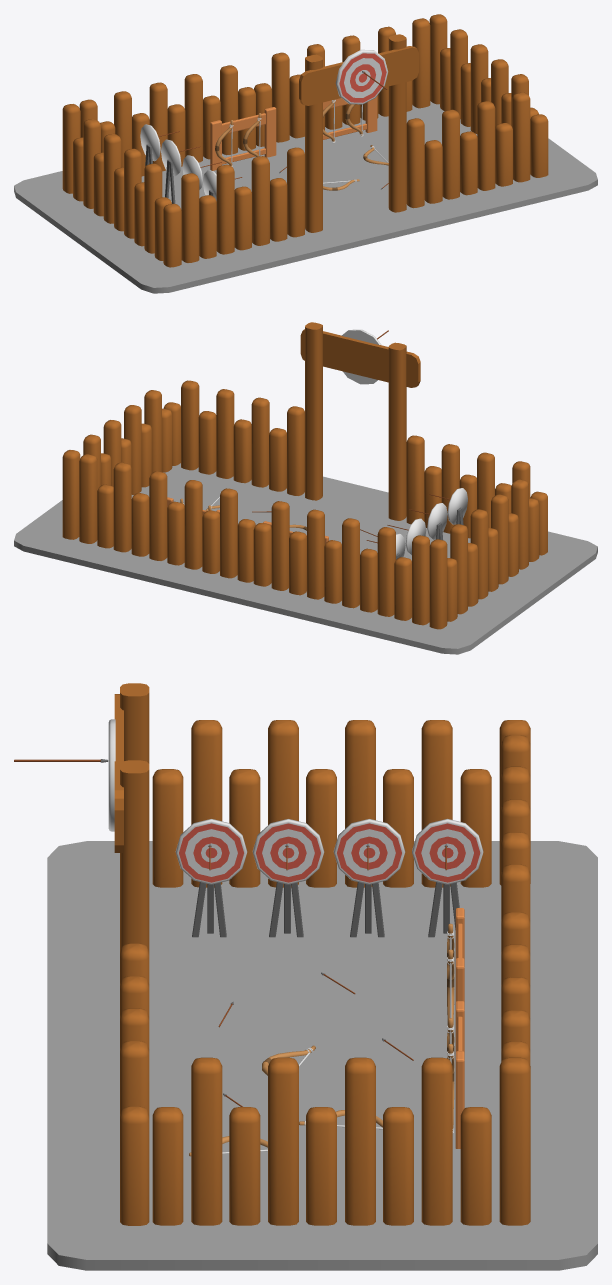
Rendered from Archery camp.fbx.
3 renders of one model, top to bottom at view 1: azimuth 30°, elevation 25°; view 2: azimuth 150°, elevation 25°; view 3: azimuth 270°, elevation 25°, orthographic. The views are drawn at different scales.
Visible parts, largest first — view 1: Cube.175, Cube.176, Cube.173, Cube.177, Cube.174, Cube.172; view 2: Cube.175, Cube.172, Cube; view 3: Cube.175, Cube.172, Cube.173, Cube, Cube.174, Cube.177, Cube.176.
Part boxes in pixels (bbox=[...]): Cube.175: bbox=[14, 14, 597, 293]; Cube.176: bbox=[210, 107, 276, 170]; Cube.173: bbox=[161, 139, 200, 203]; Cube.177: bbox=[323, 96, 377, 139]; Cube.174: bbox=[140, 124, 179, 166]; Cube.172: bbox=[182, 155, 388, 189]; Cube.175: bbox=[14, 322, 597, 654]; Cube.172: bbox=[252, 503, 447, 540]; Cube: bbox=[429, 488, 467, 524]; Cube.175: bbox=[14, 683, 597, 1270]; Cube.172: bbox=[218, 819, 413, 1106]; Cube.173: bbox=[333, 819, 405, 937]; Cube: bbox=[175, 819, 247, 937]; Cube.174: bbox=[412, 818, 483, 937]; Cube.177: bbox=[455, 1001, 464, 1148]; Cube.176: bbox=[455, 908, 464, 1002].
Bounding box in the file's own units: 1670 × 627 × 984.
